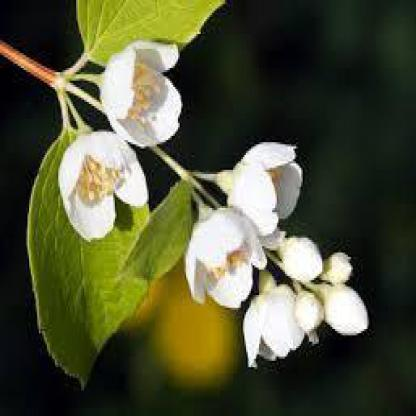Melati: (221, 158, 365, 353), (72, 48, 197, 133), (45, 118, 140, 226)
